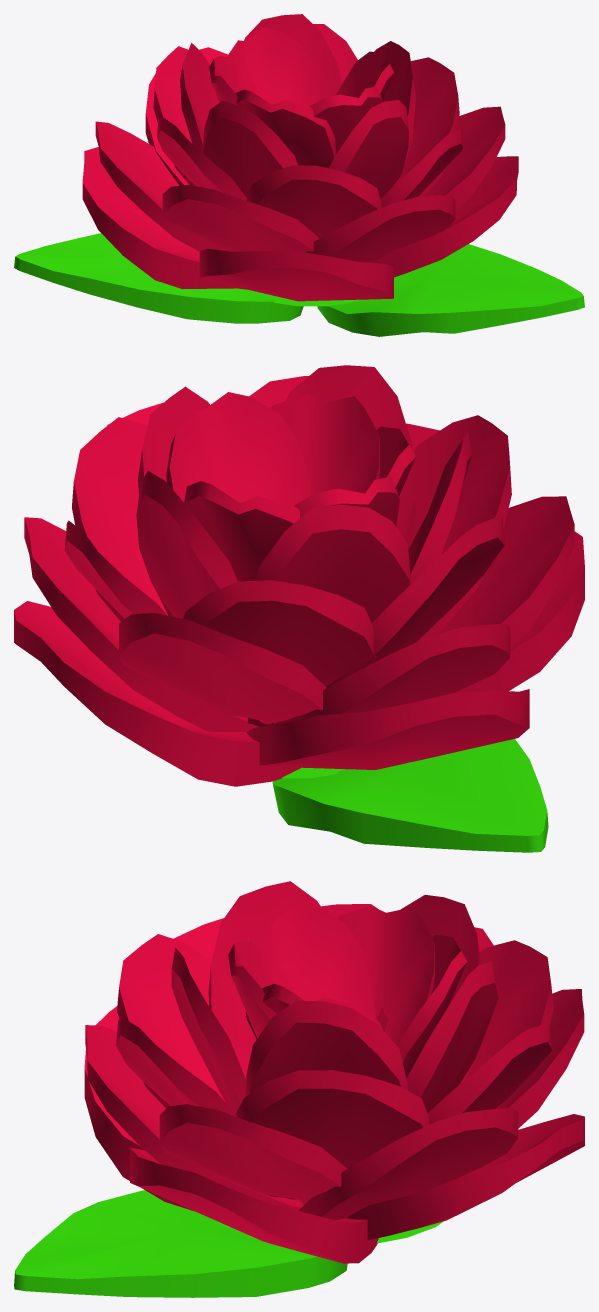
The model's file is rose04.fbx.
3 renders of one model, top to bottom at view 1: azimuth 30°, elevation 25°; view 2: azimuth 150°, elevation 25°; view 3: azimuth 270°, elevation 25°, orthographic. The views are drawn at different scales.
Parts seen in each view (by area): view 1: petal_06_03; view 2: petal_06_03; view 3: petal_06_03.
Boxes of the visible parts, <box> form: petal_06_03: <box>14,14,584,336</box>; petal_06_03: <box>14,365,584,852</box>; petal_06_03: <box>14,881,584,1297</box>.
Size of the model in its own units: 1.86 by 1.02 by 1.76.
